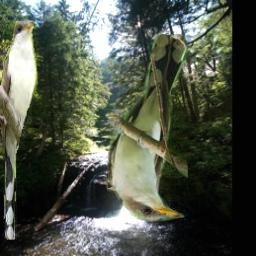Cuckoo: (107, 35, 187, 222), (0, 21, 38, 240)
